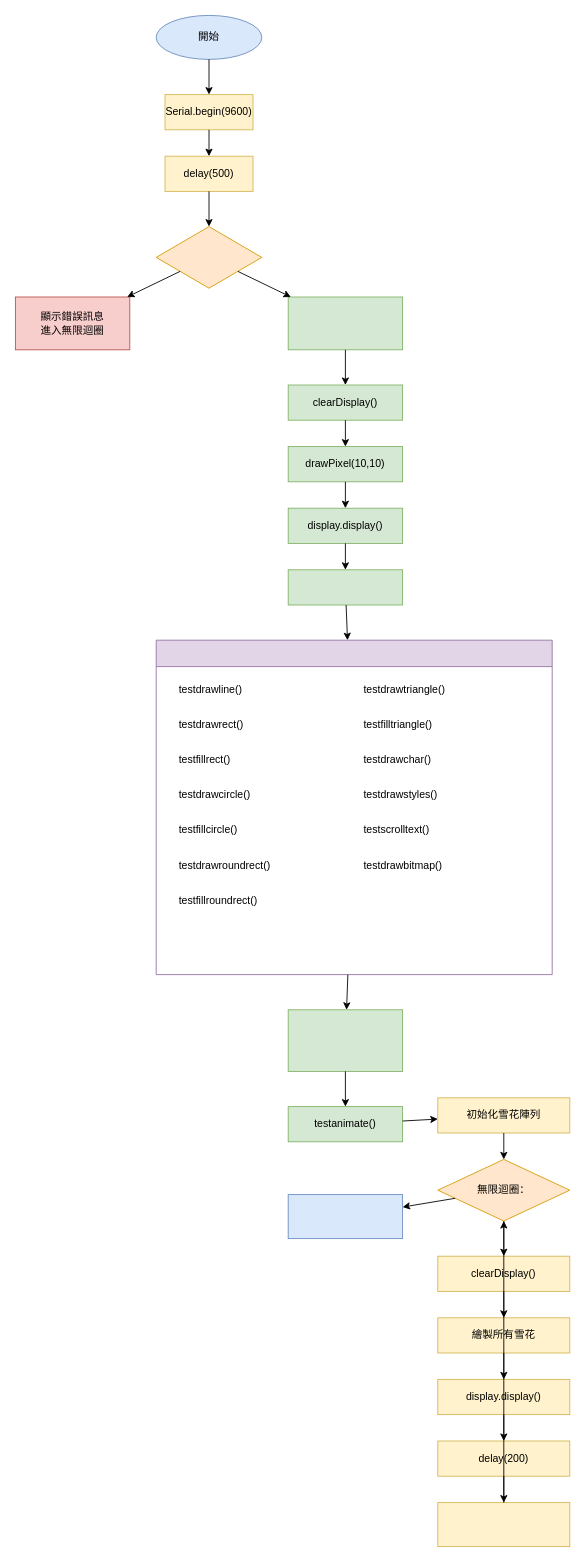
Some shapes in this 585 by 1562 pixel diagram are drawn without their labels. Each missing label, with the box of its shape:
delay(2000): (287, 569, 403, 605)
display.begin() 成功？: (155, 226, 262, 288)
invertDisplay(true) delay(1000) invertDisplay(false): (287, 1009, 403, 1071)
loop() （空）: (287, 1194, 403, 1239)
執行各項繪圖測試: (155, 639, 552, 975)
更新雪花 Y 座標 檢查是否超出畫面: (437, 1502, 570, 1547)
顯示啟動畫面 delay(2000): (287, 296, 403, 350)
